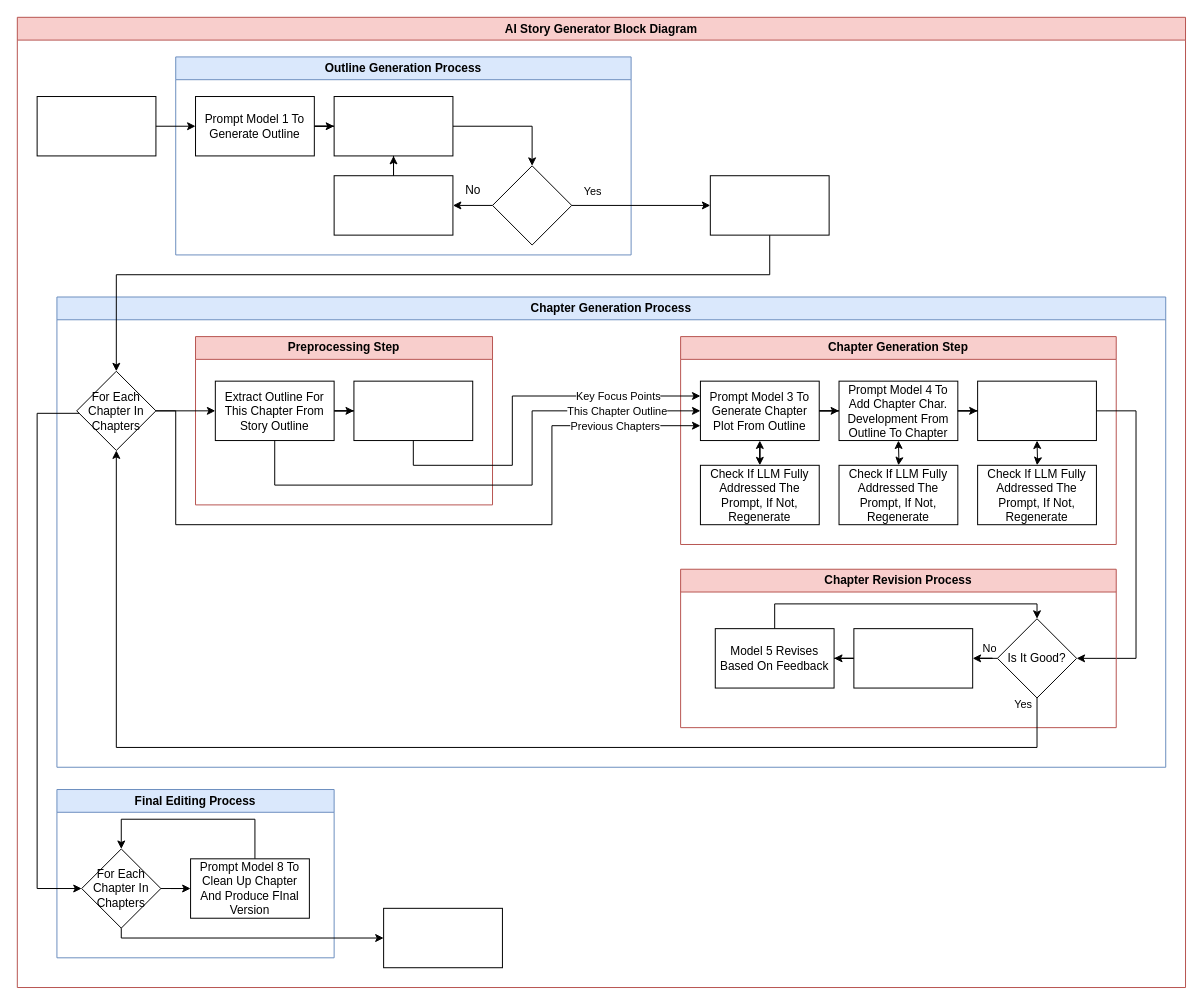
This 1203x1005 diagram has some shape labels left out. The centre of each missing label's shape, as x and y in pixels:
Compose Metadata, Write Output To File: [442,937]
Generate Summary And Key Points From Previous Generated Chapter (if applicable): [413,410]
Get Number Chapters In Outline: [769,205]
Is Outline Good?: [532,205]
Prompt Model 1 To Revise Outline: [393,205]
Prompt Model 2 To Provide Feedback / Suggested Revisions On Outline: [393,126]
Prompt Model 5 To Add Chapter Dialogue From Outline To Chapter: [1036,410]
Prompt Model 7 To Generate Feedback/Critique Chapter: [913,658]
User Prompt: [96,126]
